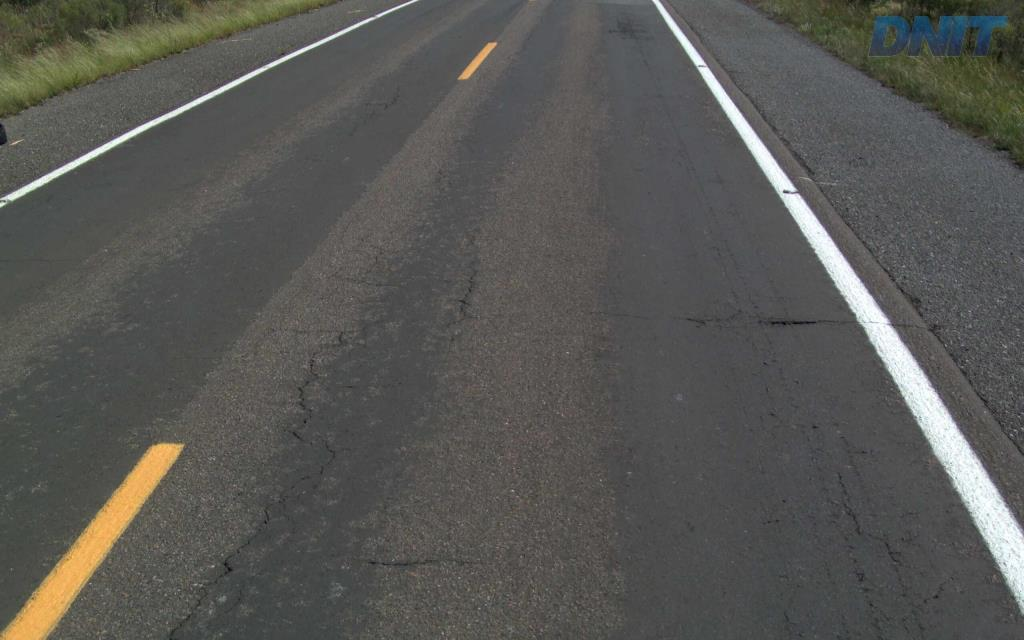crack: (166, 553, 235, 639), (863, 599, 895, 639), (757, 315, 838, 327)
